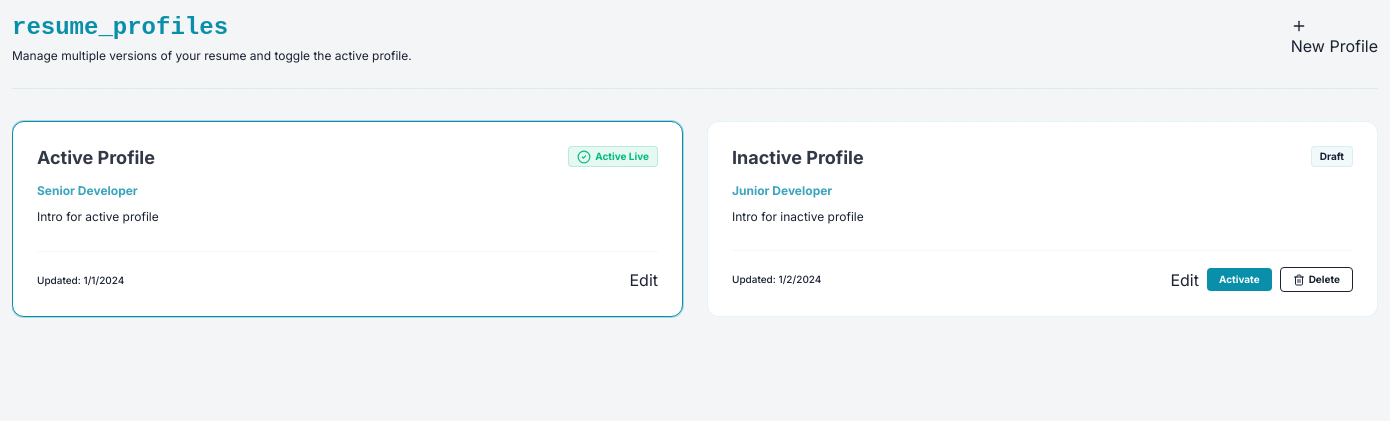
Test: ResumeProfilesPage › displays error when activating a profile fails
Expected: the heading "Inactive Profile" is shown, left=732, top=146, right=864, bottom=171
Step 1. Click the button "Activate" → click(1239, 280), box left=1207, top=268, right=1272, bottom=291
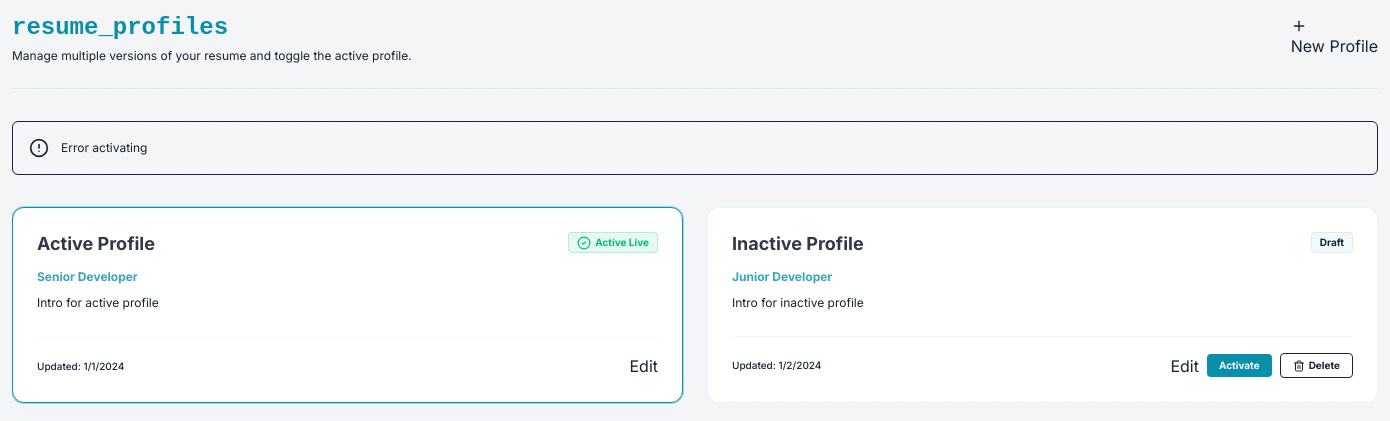
Expected: the text "Error activating" is shown, left=61, top=140, right=148, bottom=156
